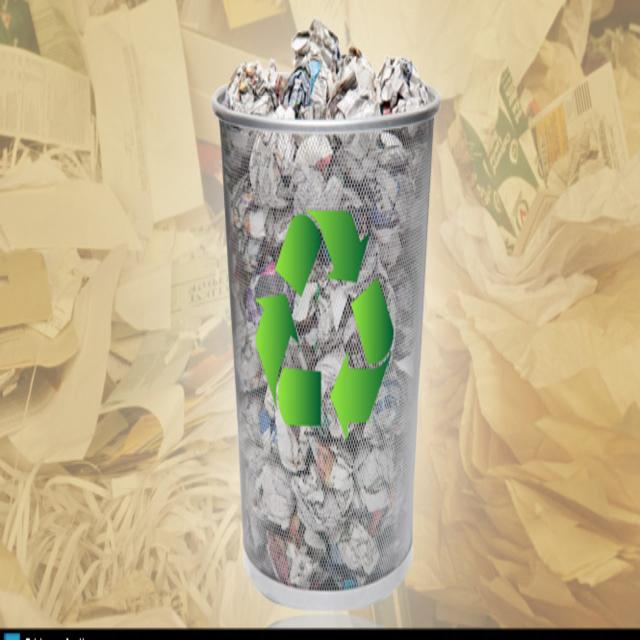PaperCardboard: (216, 24, 432, 603)
